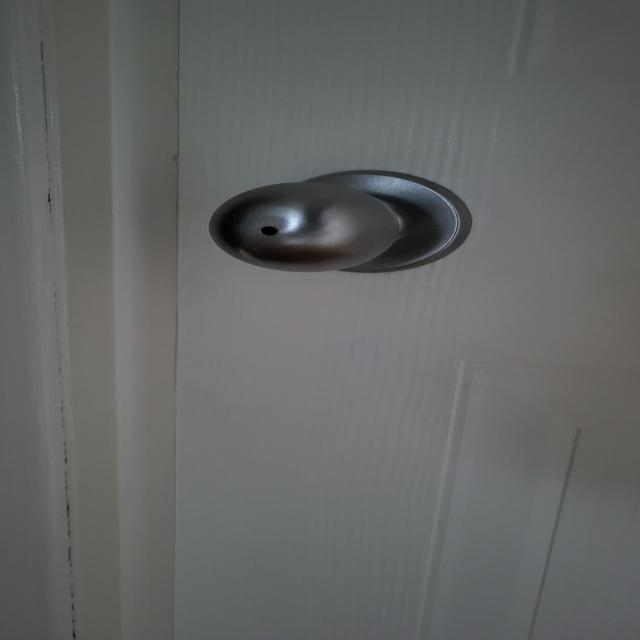door-knob: (208, 170, 471, 272)
